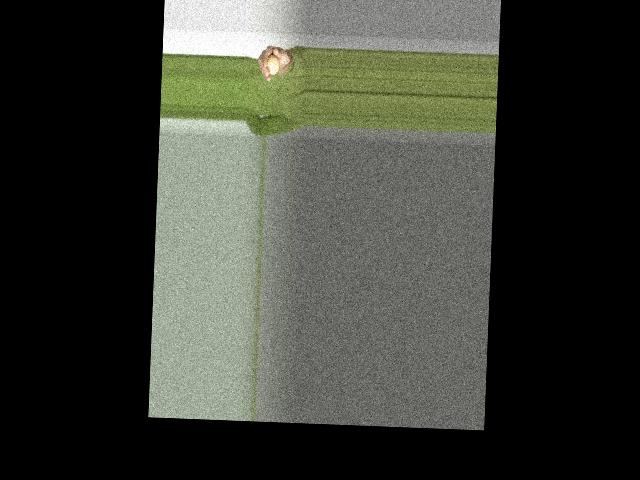egg: (266, 54, 279, 75)
